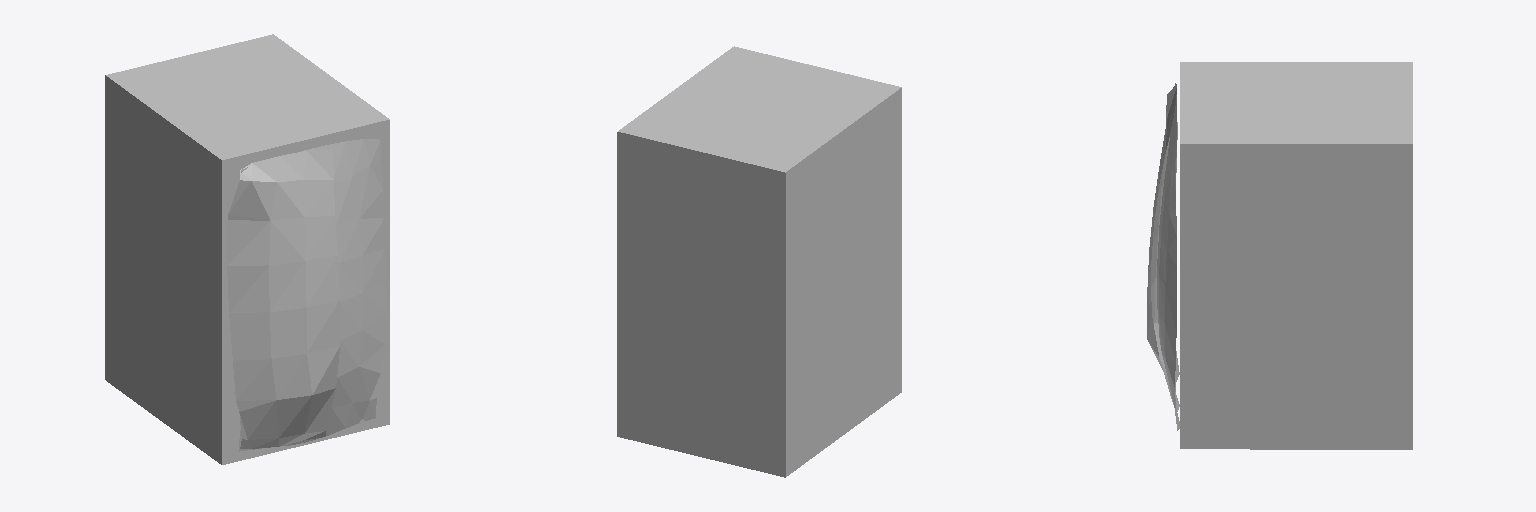
File: napkin.obj
3 renders of one model, left to right at view 1: azimuth 30°, elevation 25°; view 2: azimuth 150°, elevation 25°; view 3: azimuth 270°, elevation 25°, orthographic.
Parts seen in each view (by area): view 1: Sphere.000_Sphere.003; view 2: Sphere.000_Sphere.003; view 3: Sphere.000_Sphere.003.
Boxes of the visible parts, x1=… form: Sphere.000_Sphere.003: x1=105, y1=34, x2=389, y2=464; Sphere.000_Sphere.003: x1=617, y1=46, x2=901, y2=477; Sphere.000_Sphere.003: x1=1147, y1=62, x2=1412, y2=449.
Size of the model in its own units: 2 by 3.47 by 2.74.